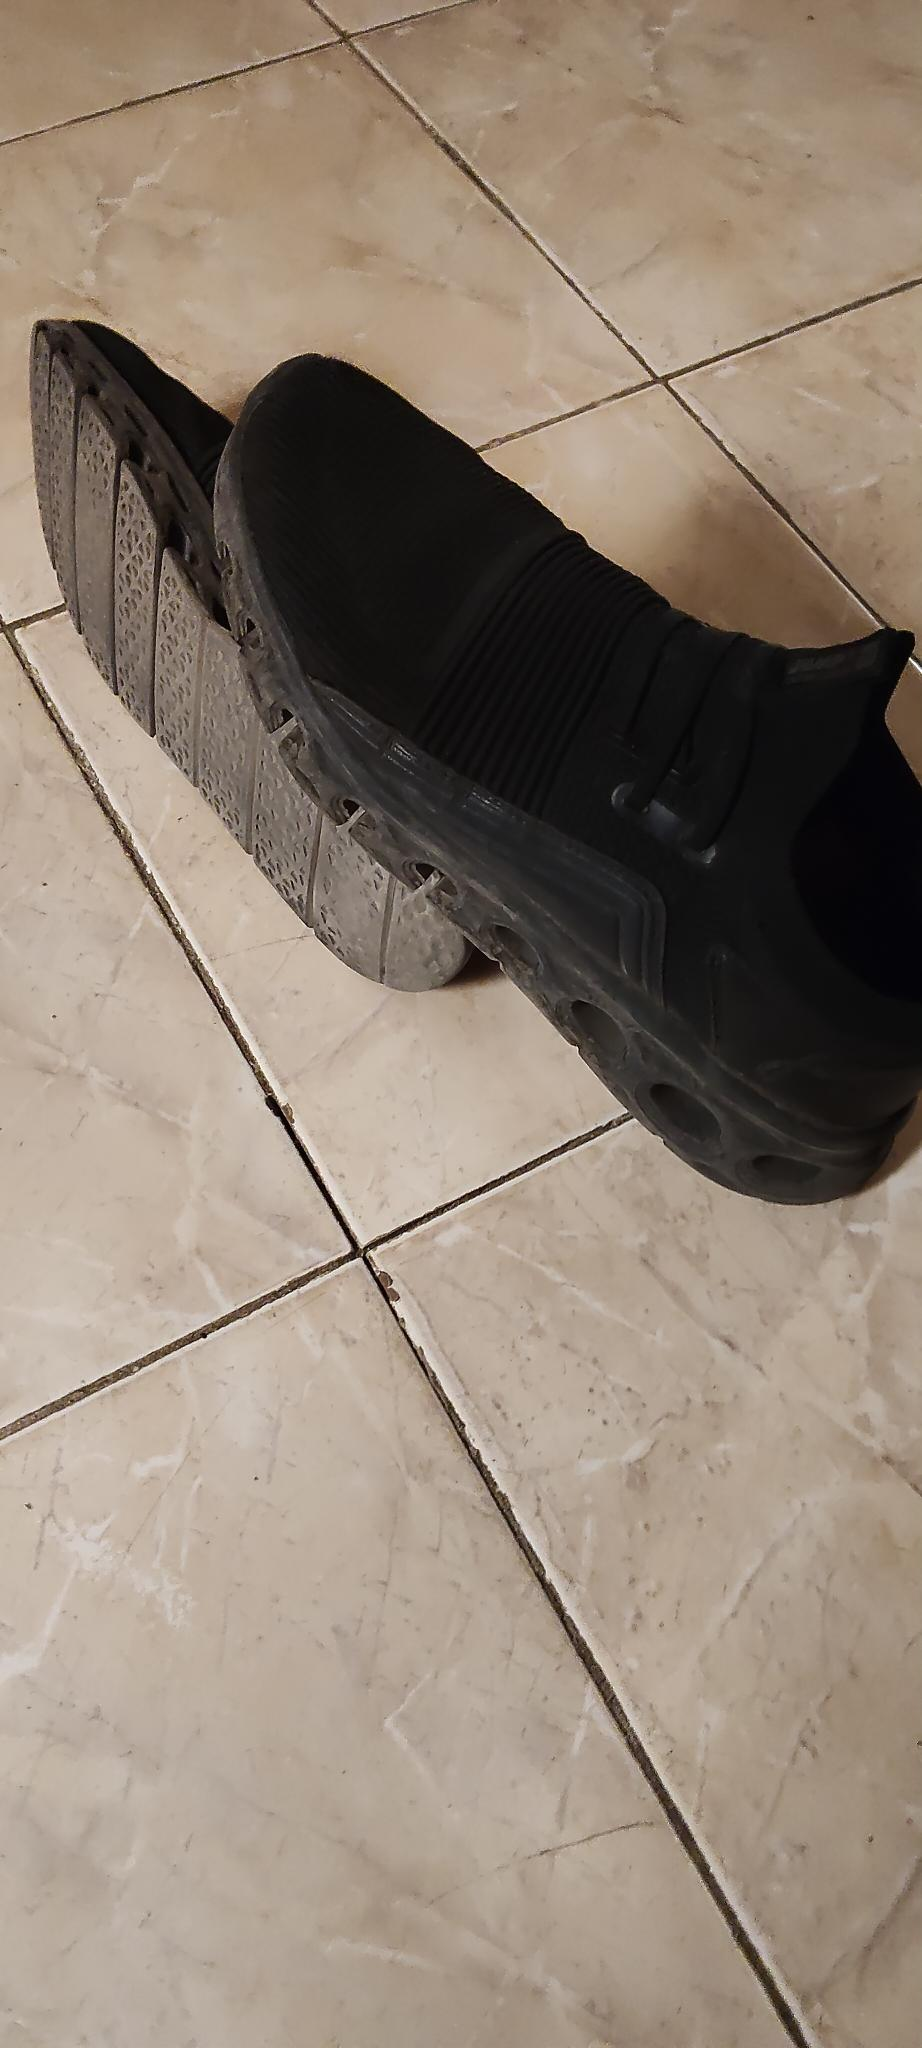Shoes: (212, 353, 922, 1201), (28, 318, 502, 986)
